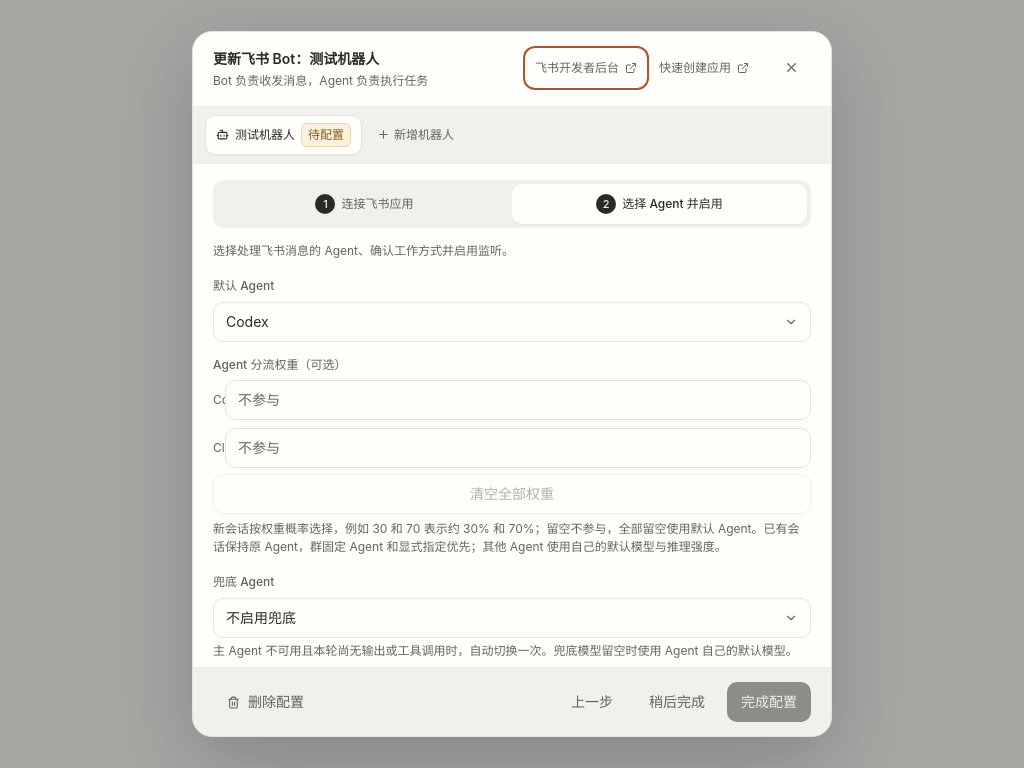
Test: LarkConfigModal 模态外壳契约 › lets Escape dismiss only the confirmation while the wizard stays open
// 草稿未完成 → 关闭请求先弹确认框，而不是直接丢弃。
Click the button named "关闭" at (791, 68), box [771,48,811,88]
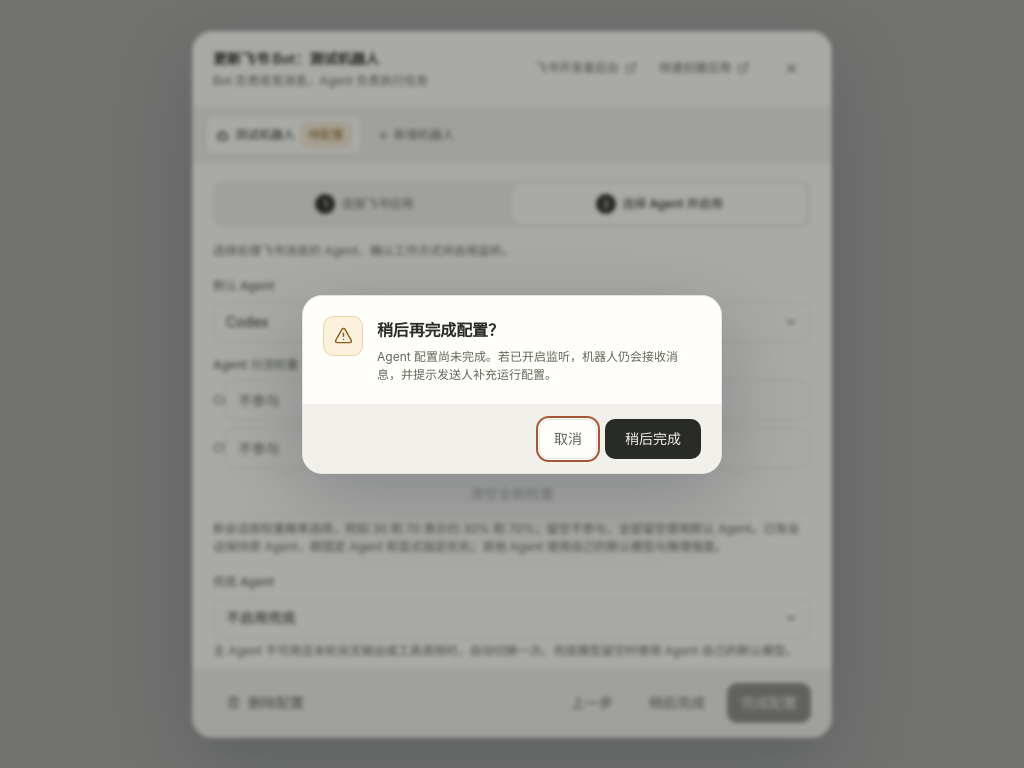
Result: the heading "稍后再完成配置？" is shown at [377,320,504,340]
// 一次 Escape 只关最上面一层：确认框收起，向导与填了一半的表单必须还在。
Press Escape
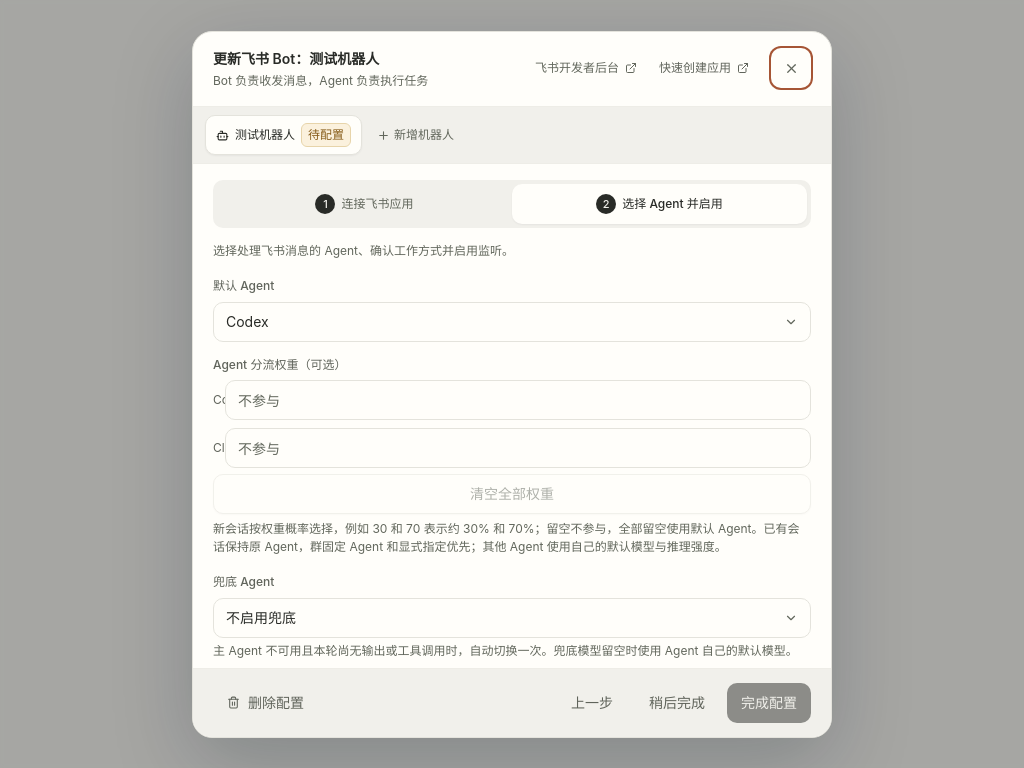
Expected: the dialog "更新飞书 Bot：测试机器人" is shown, [192,31,832,737]
Result: the heading "稍后再完成配置？" is gone
